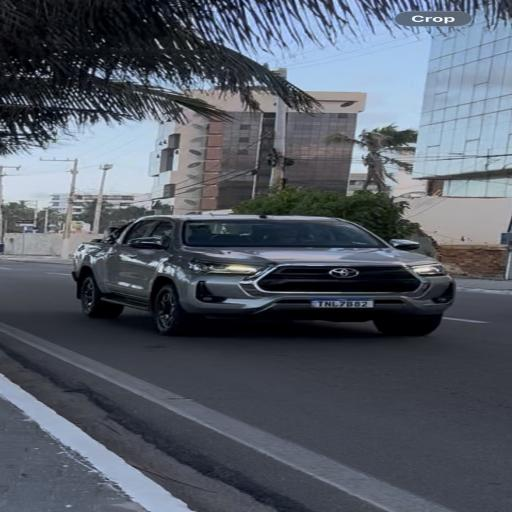detec-o-placas: (299, 290, 392, 322)
